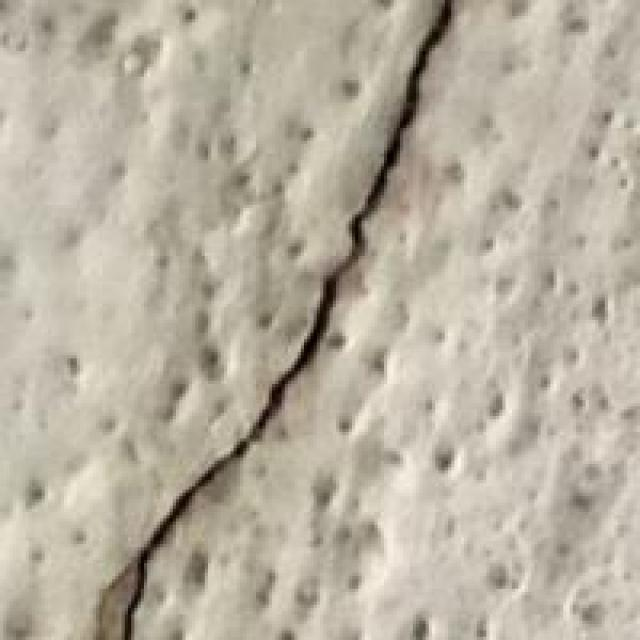Crack: (103, 0, 471, 637)
